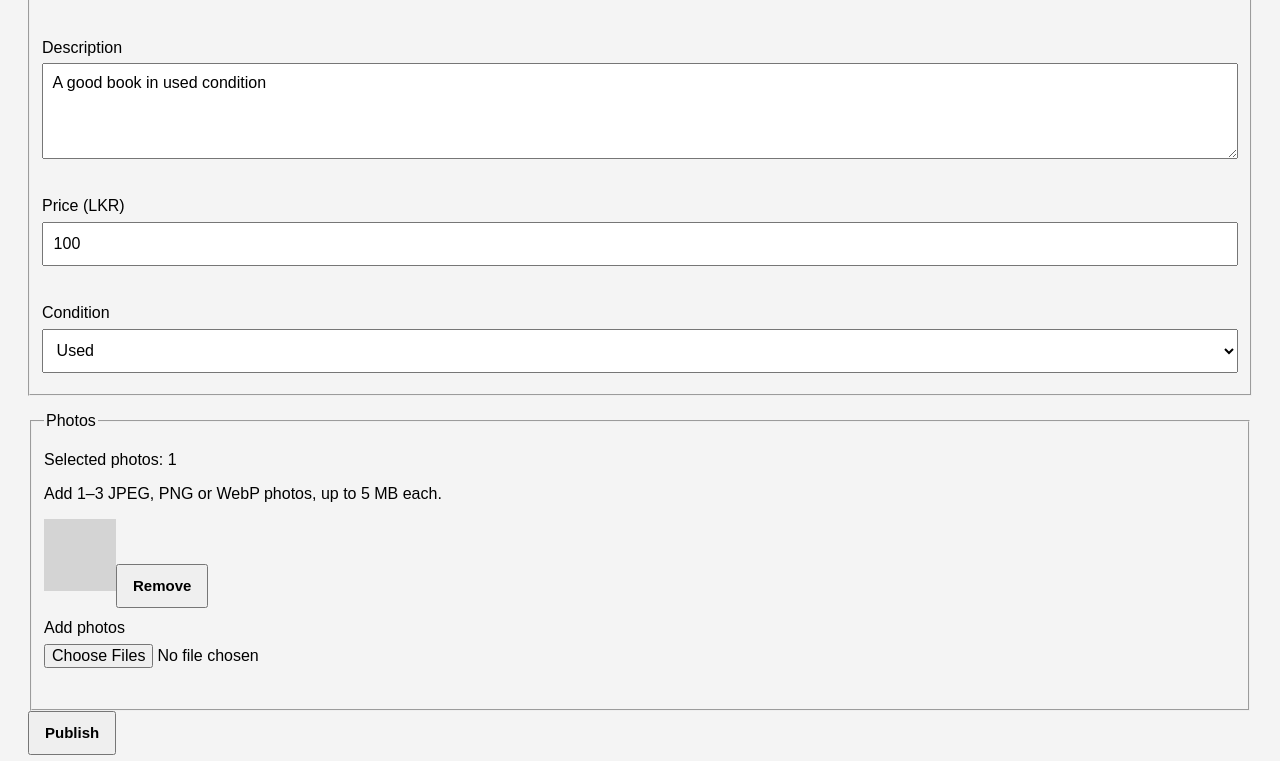
publishing reports API errors instead of crashing on a shadowed helper
Earlier steps of the test are not shown.
(page scrolled)
What coordinates should you click on to do the following:
click the button "Publish"
I would click on:
 (72, 733)
Its box is [28, 711, 116, 755].
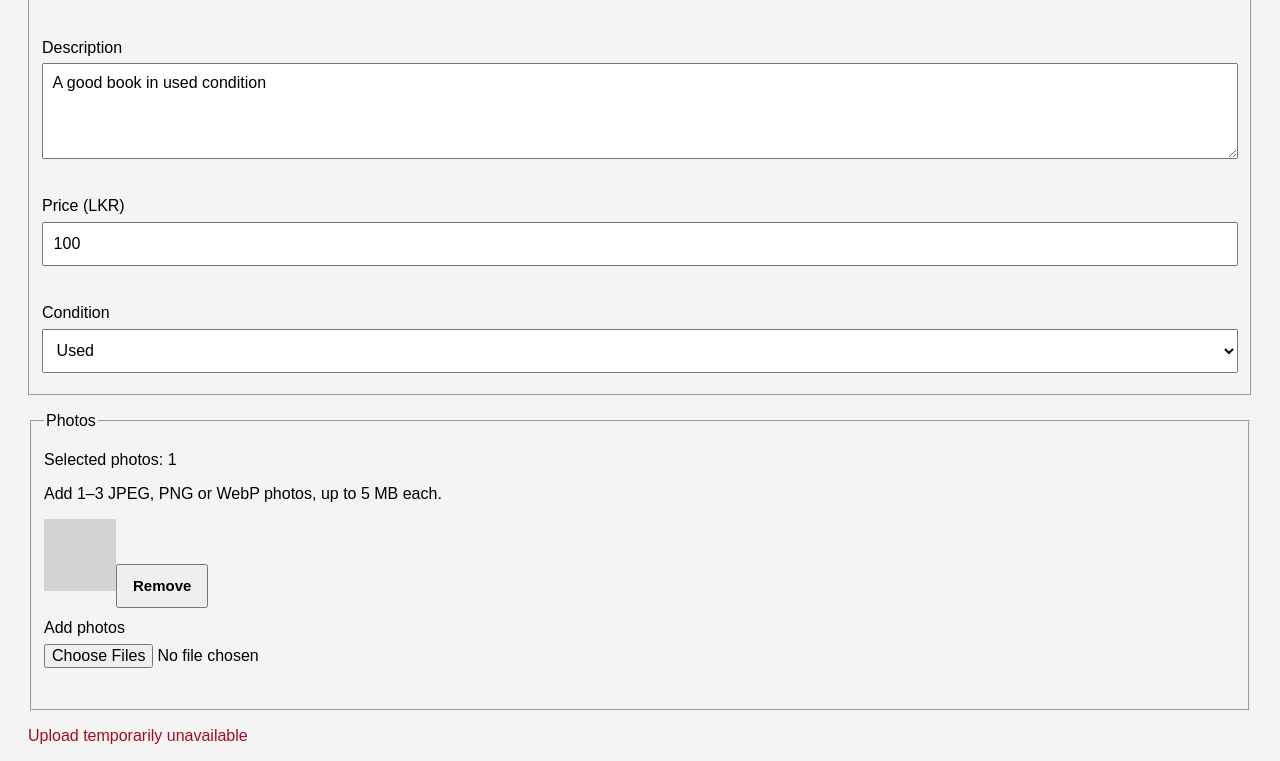
Expected: the message "Upload temporarily unavailable" is shown, [28, 727, 248, 744]
